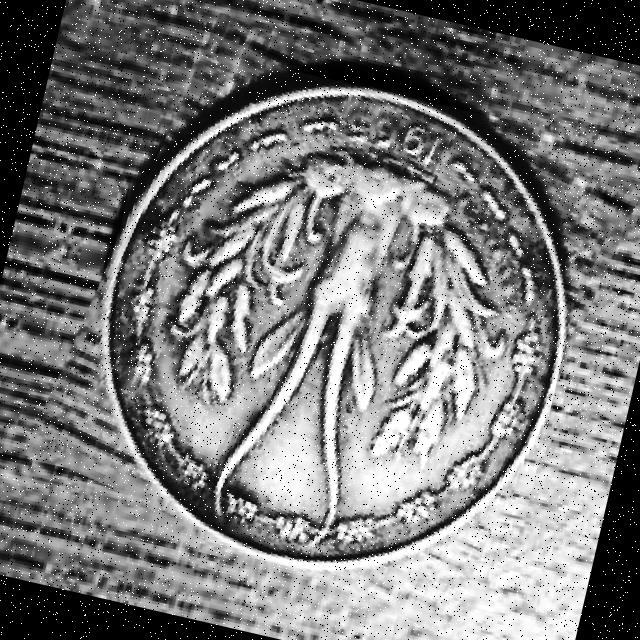juroom derem: (104, 84, 559, 565)
